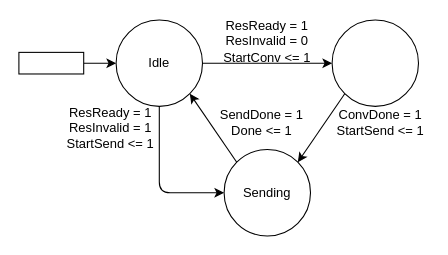
The diagram is 448 pixels wide and 255 high, and some of its shapes have lost their labels. Each missing label, with the box of its shape:
Converting: (331, 19, 418, 106)
Reset: (18, 51, 84, 74)
